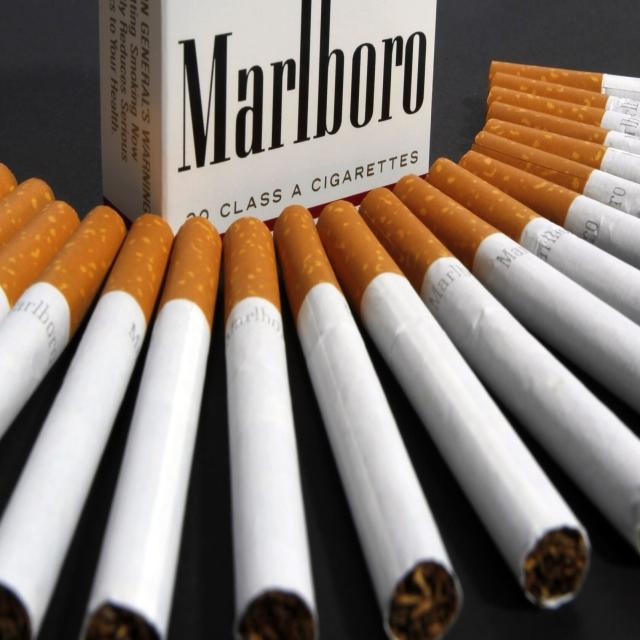marlboro: (103, 0, 438, 251)
